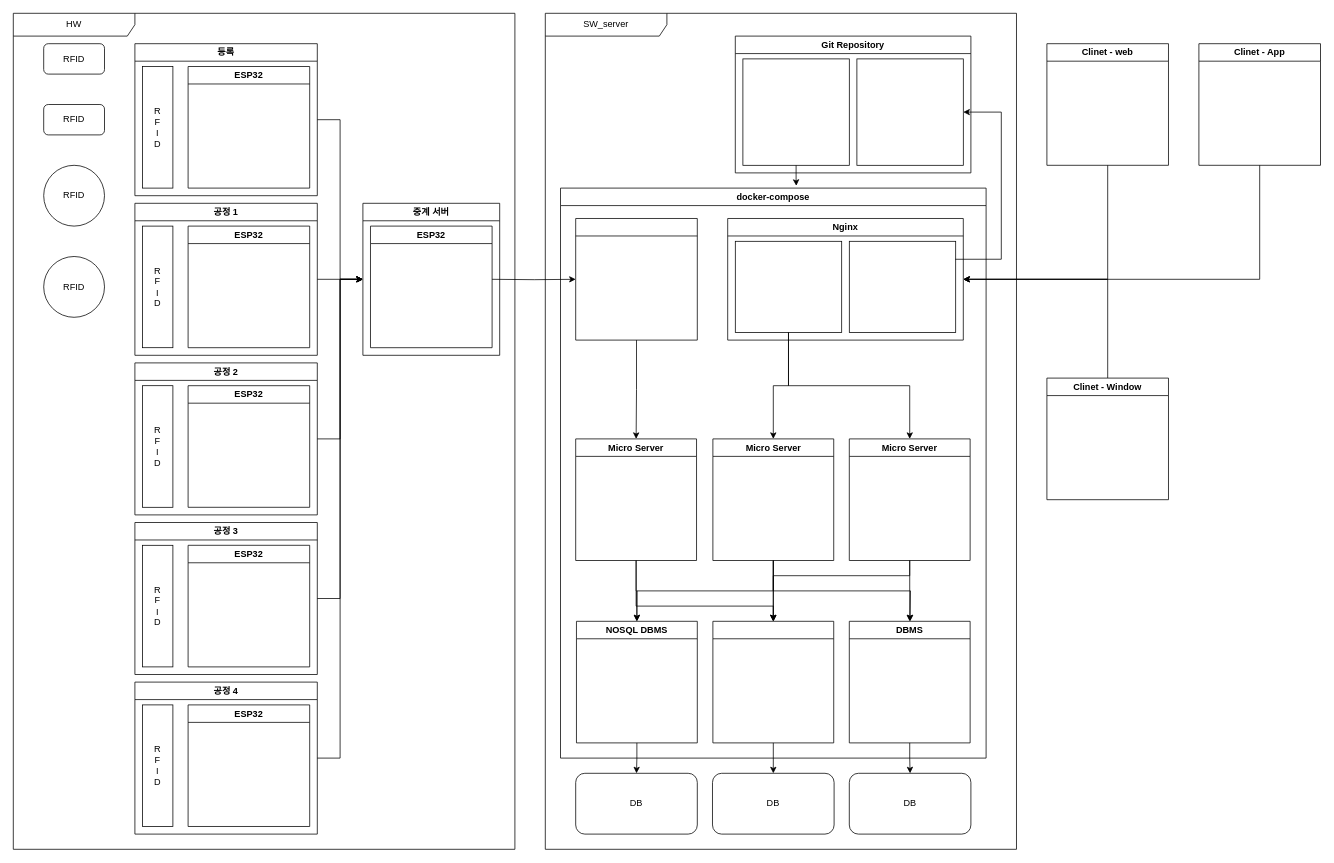
Image size: 1334x863. Some labels were removed from this diagram. Here are the shapes that lost their labels. From the top down, the centre of each, then its label:
[795,111]: Container Data docker-compose.yml config_file init_DB.sql ......
[909,111]: Frontend Web Data html/css/js library/framework
[636,279]: MQTT Broker
[788,286]: API
[902,286]: URI + '/' (최초 진입)
[773,682]: RDBMS
